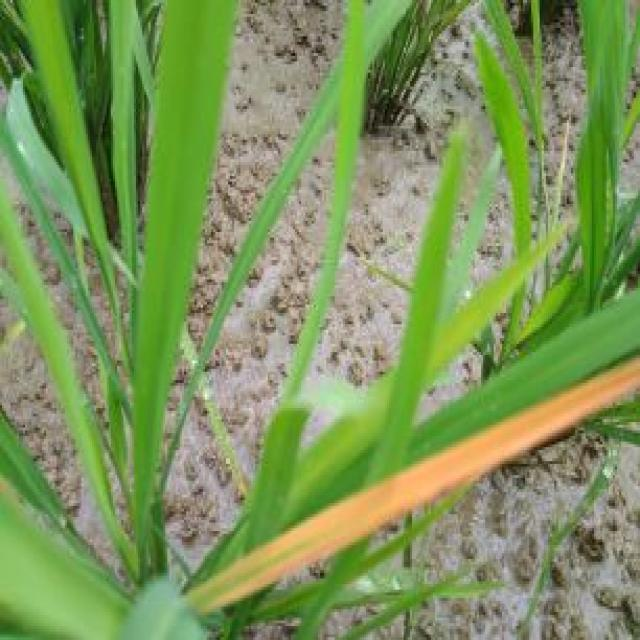Tungro: (214, 331, 634, 611), (187, 356, 640, 515)
